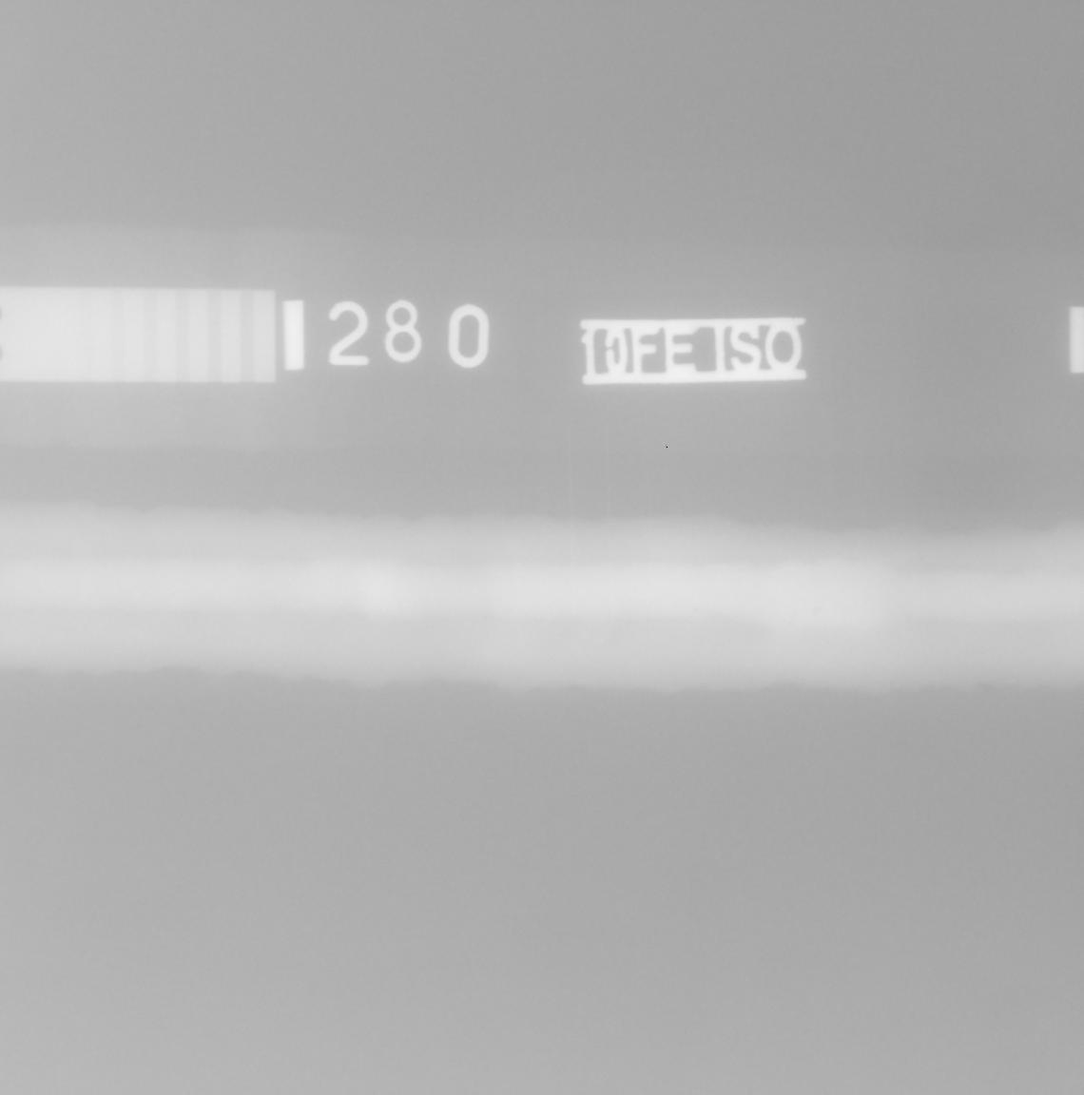Pore/Porosity: (811, 605, 822, 618), (693, 607, 699, 612), (1018, 635, 1022, 639)
